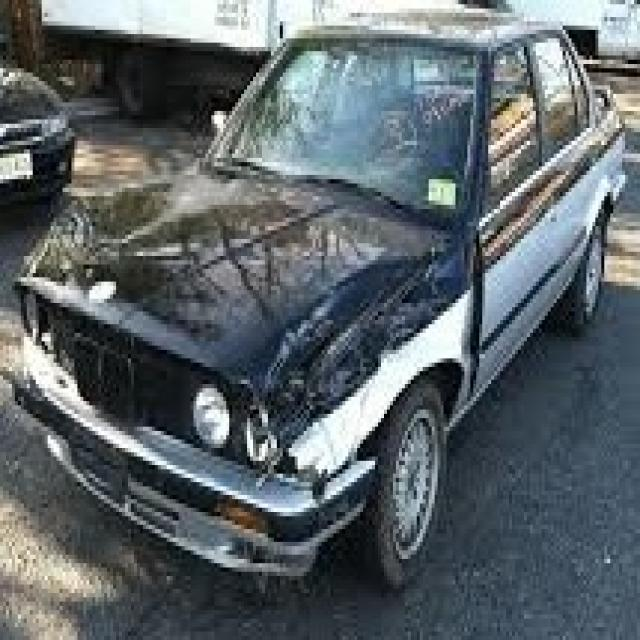minor: (244, 226, 484, 504)
